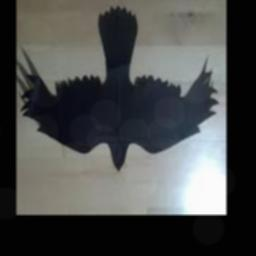Crow: (21, 7, 218, 172)
